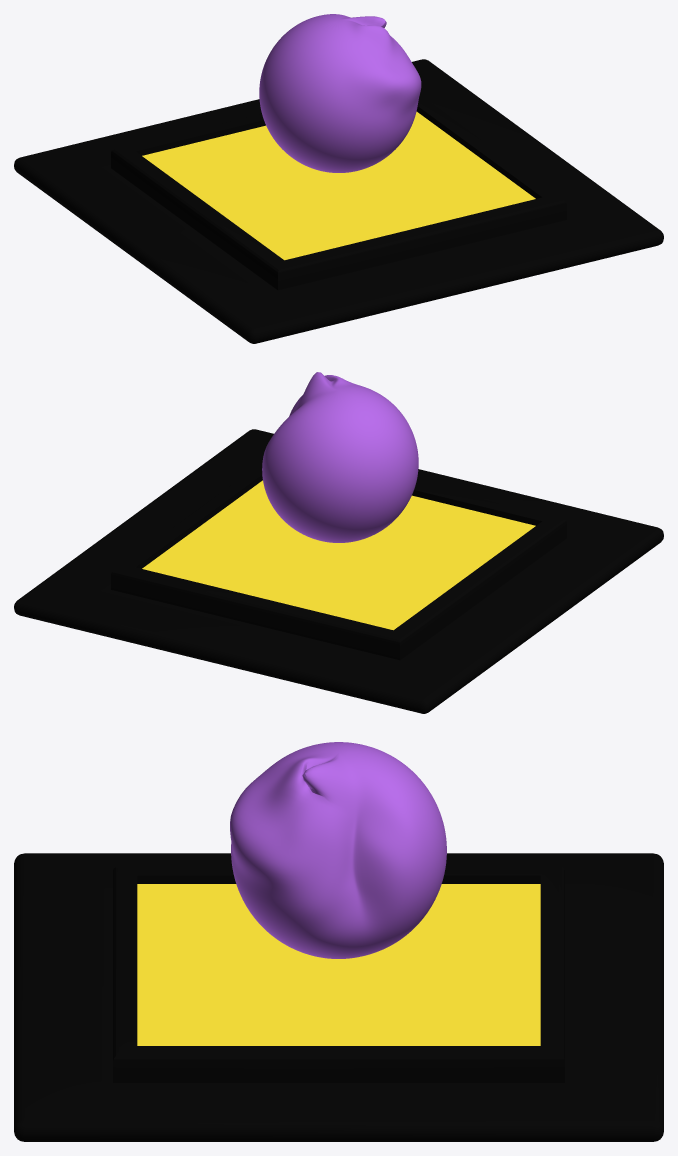
Rendered from glados-light.glb.
3 renders of one model, top to bottom at view 1: azimuth 30°, elevation 25°; view 2: azimuth 150°, elevation 25°; view 3: azimuth 270°, elevation 25°, orthographic. The views are drawn at different scales.
Visible parts, largest first — view 1: Plane, Sphere; view 2: Plane, Sphere; view 3: Plane, Sphere.
Boxes of the visible parts, box(x1,y1,x2,y2) form: Plane: box(14, 59, 663, 343); Sphere: box(259, 14, 421, 172); Plane: box(14, 429, 663, 713); Sphere: box(262, 372, 418, 542); Plane: box(14, 853, 663, 1141); Sphere: box(230, 742, 446, 958).
Size of the model in its own units: 5.94 by 2.62 by 5.94.
